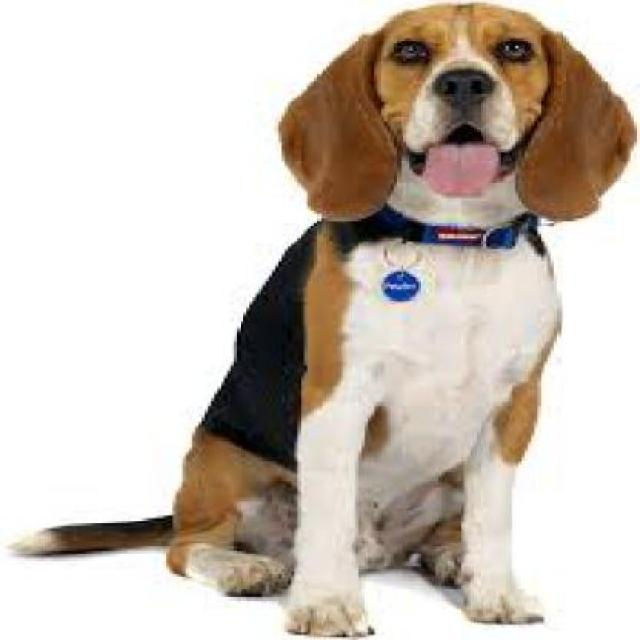Dog: (6, 0, 638, 638)
